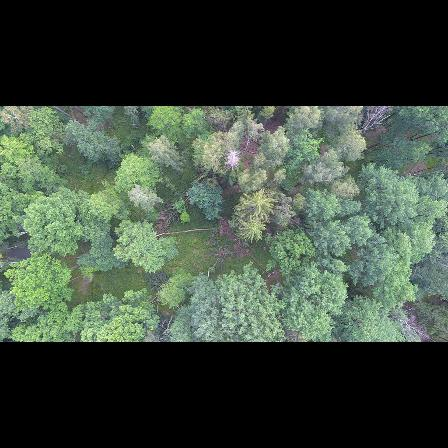Dead: (354, 106, 394, 136), (395, 315, 434, 340), (227, 144, 242, 171)
